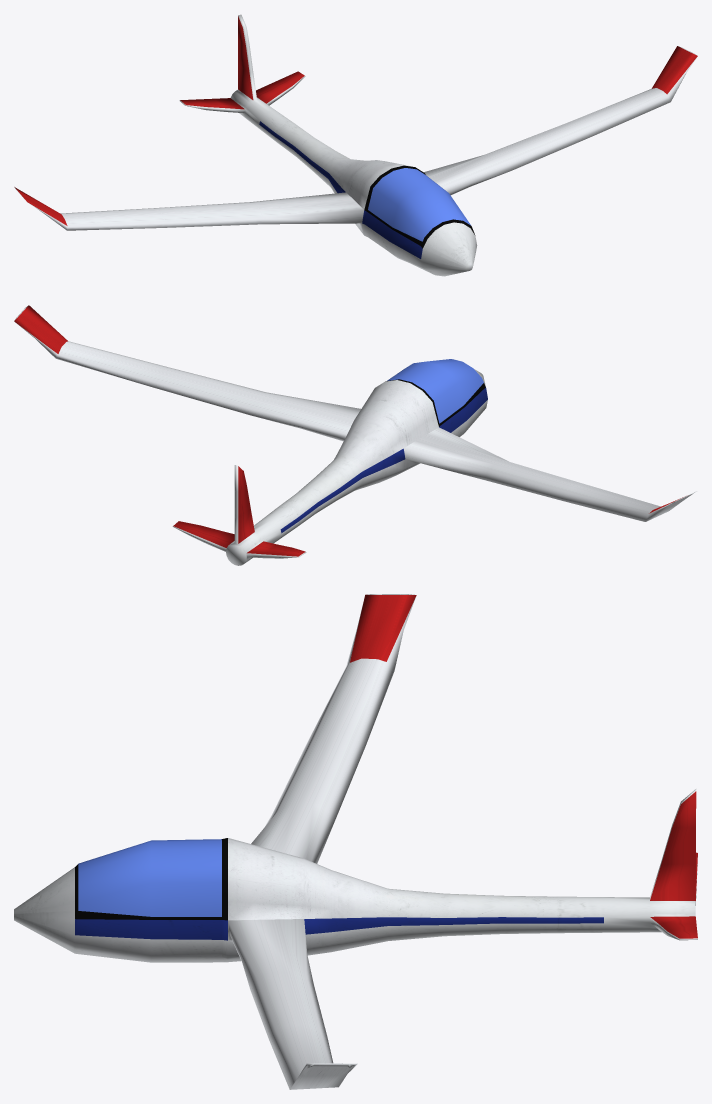
Rendered from Glider2.FBX.
The picture shows the model from 3 angles, top to bottom: view 1: azimuth 30°, elevation 25°; view 2: azimuth 150°, elevation 25°; view 3: azimuth 270°, elevation 25°; orthographic projection. The views are drawn at different scales.
Visible parts, largest first — view 1: Cylinder001; view 2: Cylinder001; view 3: Cylinder001.
Boxes of the visible parts, x1=… form: Cylinder001: x1=14, y1=14, x2=697, y2=276; Cylinder001: x1=14, y1=305, x2=696, y2=565; Cylinder001: x1=14, y1=594, x2=697, y2=1089.
Bounding box in the file's own units: 254 × 41.89 × 156.
Materials: 5 (3 with a texture image).
